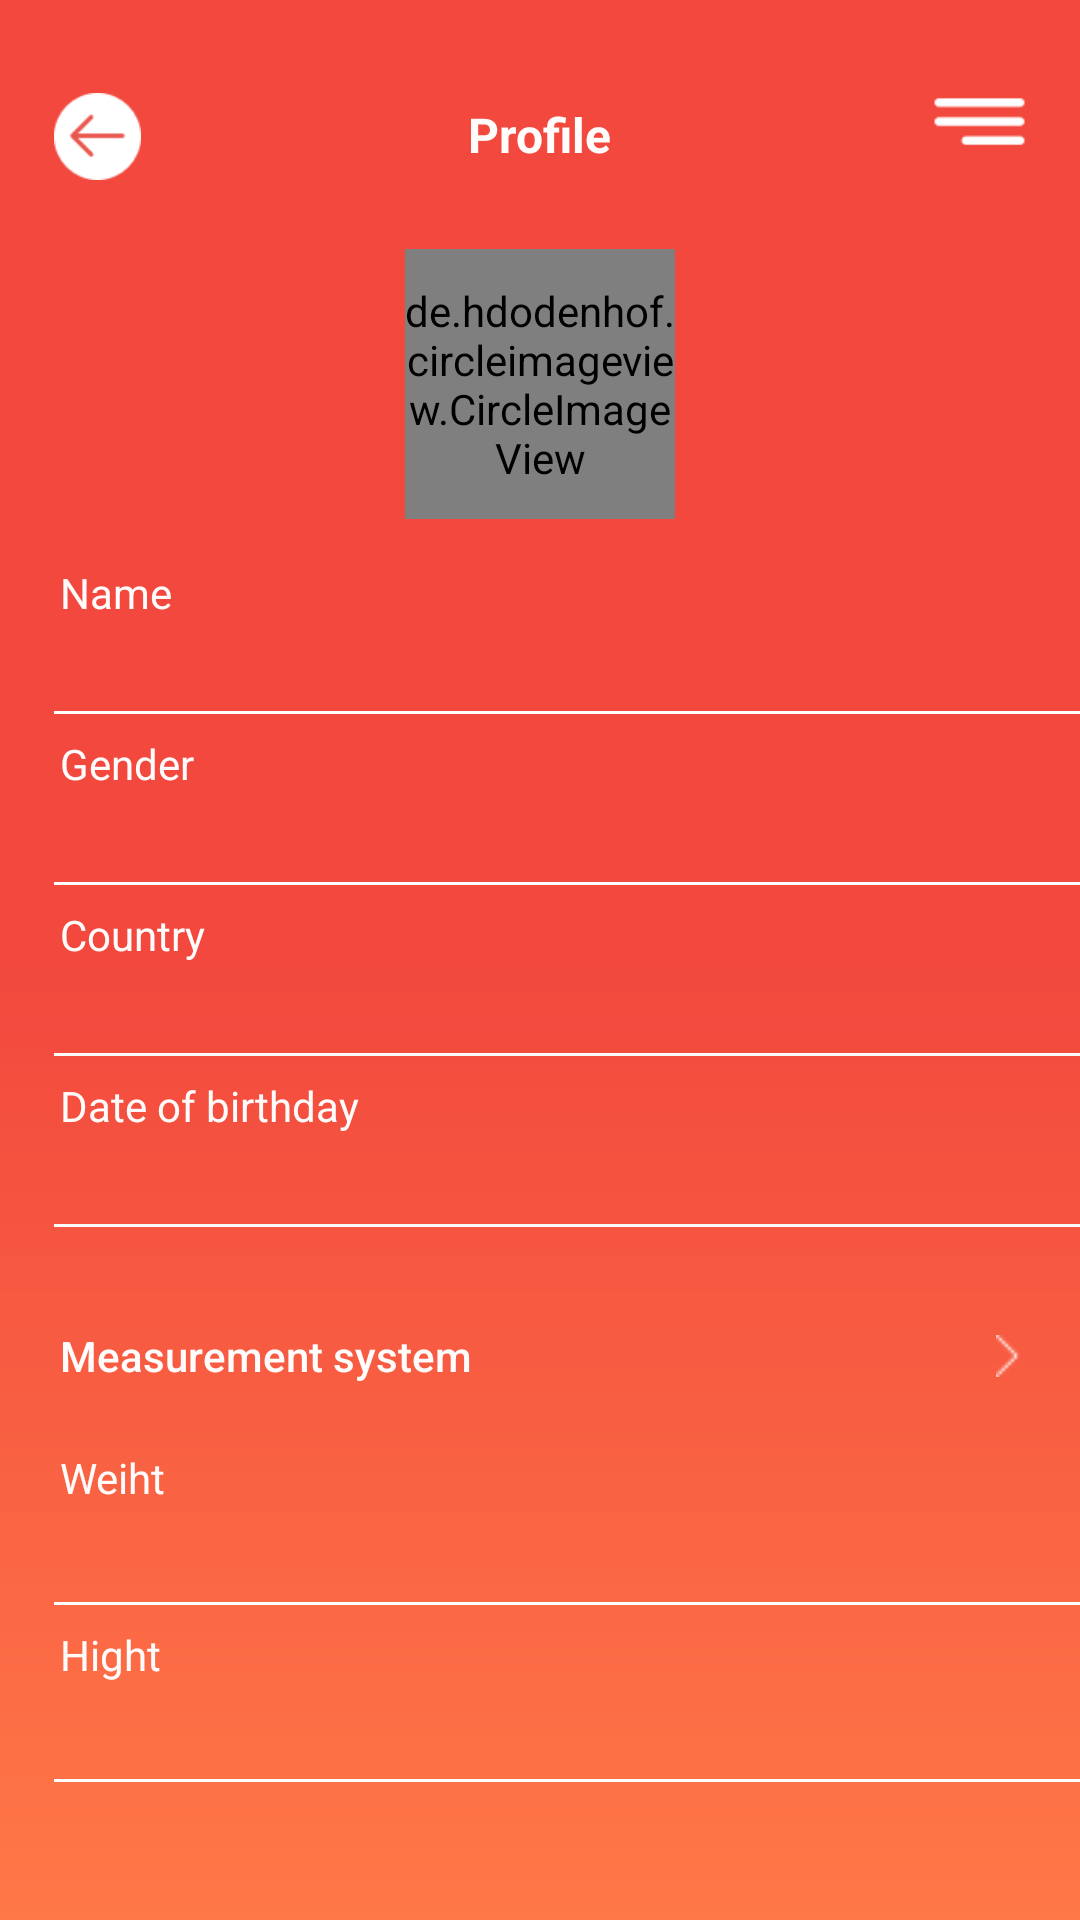

Icon click points for this 1080 x 1920 phone screenshot, format (x=x, y=y):
back: (x=97, y=136)
burgerwhite: (x=979, y=121)
